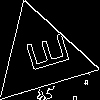E: (16, 32, 70, 77)
